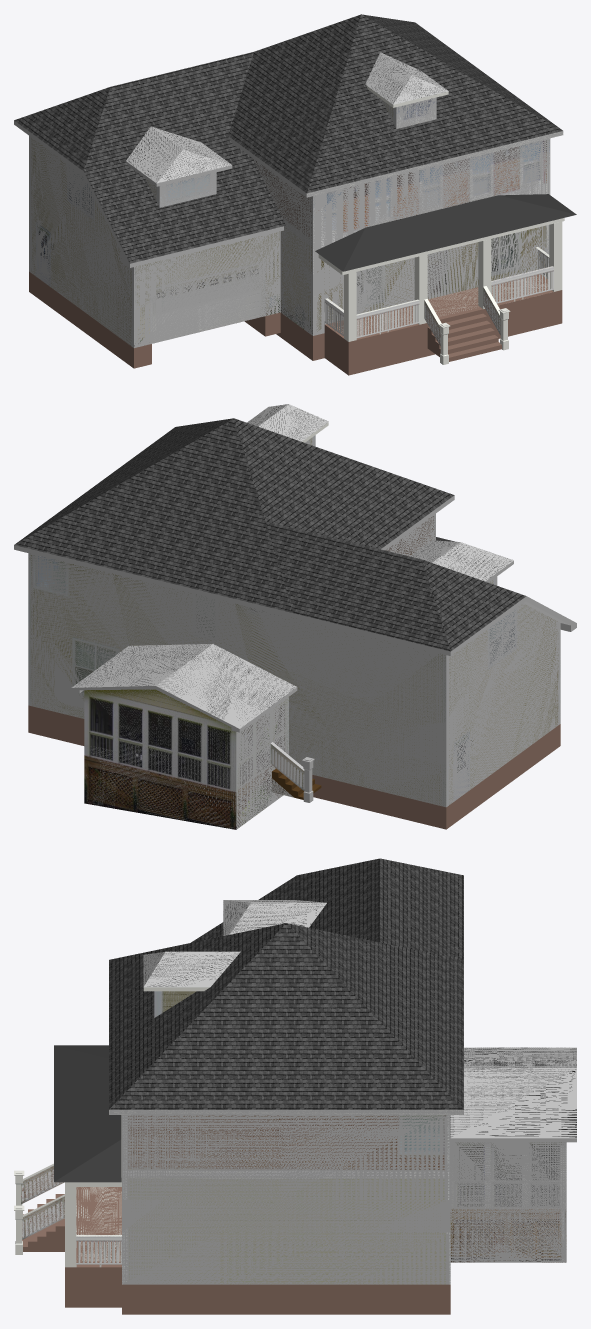
Rendered from house2.fbx.
The picture shows the model from 3 angles, top to bottom: view 1: azimuth 30°, elevation 25°; view 2: azimuth 150°, elevation 25°; view 3: azimuth 270°, elevation 25°; orthographic projection. The views are drawn at different scales.
Parts seen in each view (by area): view 1: Group5, Group7, Group15, Group8, Group16, Group6, Group17, Model, Group10, Group13, FrontPorchRailing2, FrontPorchRailing1 (+8 smaller); view 2: Group5, Group7, Group18, Group15, Group1, Group17, Model, Group6, Group10, Group2, Group4; view 3: Group7, Group5, Group18, Group15, Group1, Group2, Group8, Group16, Group10, Group6, Model, FrontPorchSideRail_1_2 (+5 smaller).
Part boxes in pixels (x1,y1,x2,y2): Group5: (29, 136, 550, 347); Group7: (228, 14, 562, 193); Group15: (14, 52, 285, 263); Group8: (315, 194, 576, 271); Group16: (324, 274, 562, 375); Group6: (126, 126, 231, 183); Group17: (29, 271, 280, 368); Model: (14, 120, 563, 267); Group10: (365, 52, 448, 104); Group13: (427, 313, 501, 361); FrontPorchRailing2: (356, 299, 419, 338); FrontPorchRailing1: (491, 266, 553, 303); Group5: (28, 514, 560, 807); Group7: (14, 418, 454, 612); Group18: (84, 689, 288, 829); Group15: (265, 521, 526, 651); Group1: (71, 644, 297, 732); Group17: (312, 724, 560, 829); Model: (14, 495, 576, 797); Group6: (410, 540, 513, 581); Group10: (247, 404, 328, 441); Group2: (28, 705, 84, 745); Group4: (270, 742, 304, 790); Group7: (109, 923, 463, 1109); Group5: (122, 1115, 450, 1284); Group18: (450, 1142, 566, 1262); Group15: (191, 858, 463, 959); Group1: (450, 1047, 576, 1142); Group2: (122, 1284, 450, 1314); Group8: (54, 1045, 121, 1182); Group16: (65, 1187, 121, 1307); Group10: (143, 951, 240, 987); Group6: (223, 900, 326, 935); Model: (109, 1110, 463, 1114); FrontPorchSideRail_1_2: (76, 1235, 121, 1267).
Size of the model in its own units: 17.51 by 11.4 by 17.76.
